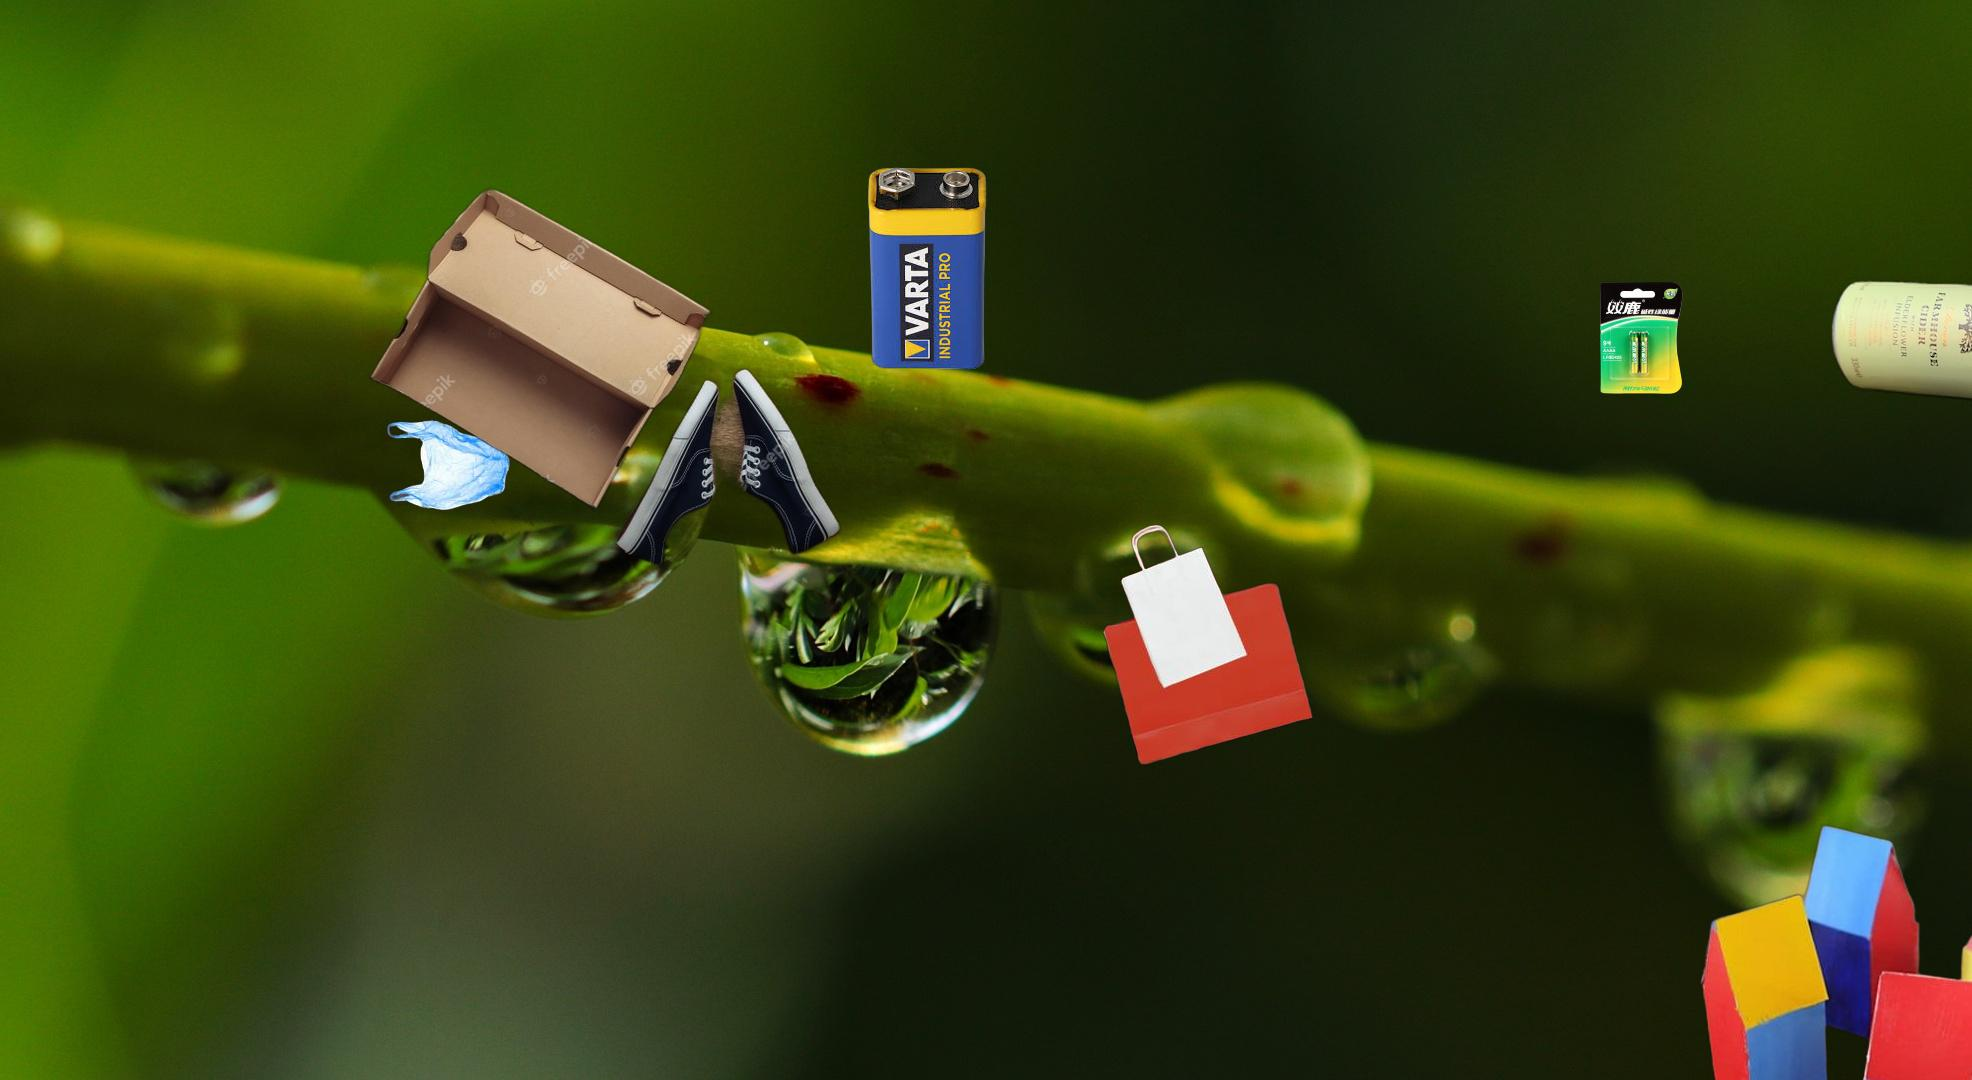battery: (866, 165, 989, 372), (1597, 279, 1686, 396)
metal-cans: (1828, 275, 1972, 408)
paper-bag: (1100, 523, 1314, 767)
plastic-bag: (384, 418, 513, 511)
trashbox-cardboard: (364, 185, 844, 569), (1695, 821, 1972, 1080)
